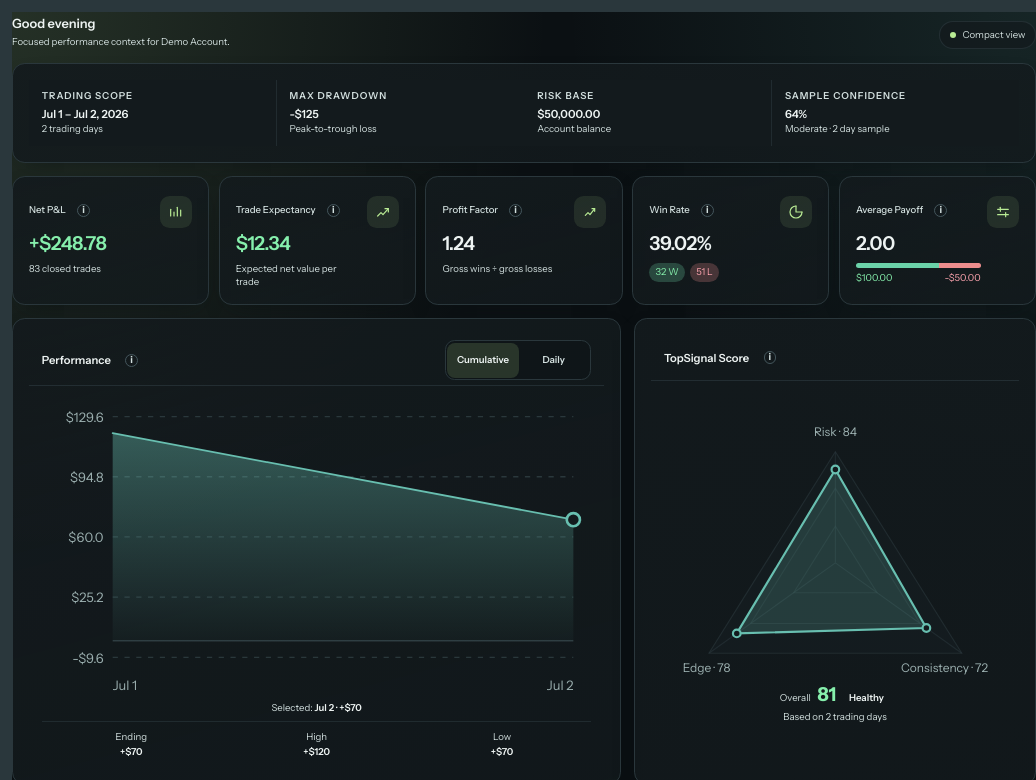
it: CompactDashboardView › describes contextual info popovers and returns focus on Escape
Click the button named "Net P&L information" at coordinates (84, 210), box left=66, top=192, right=101, bottom=228
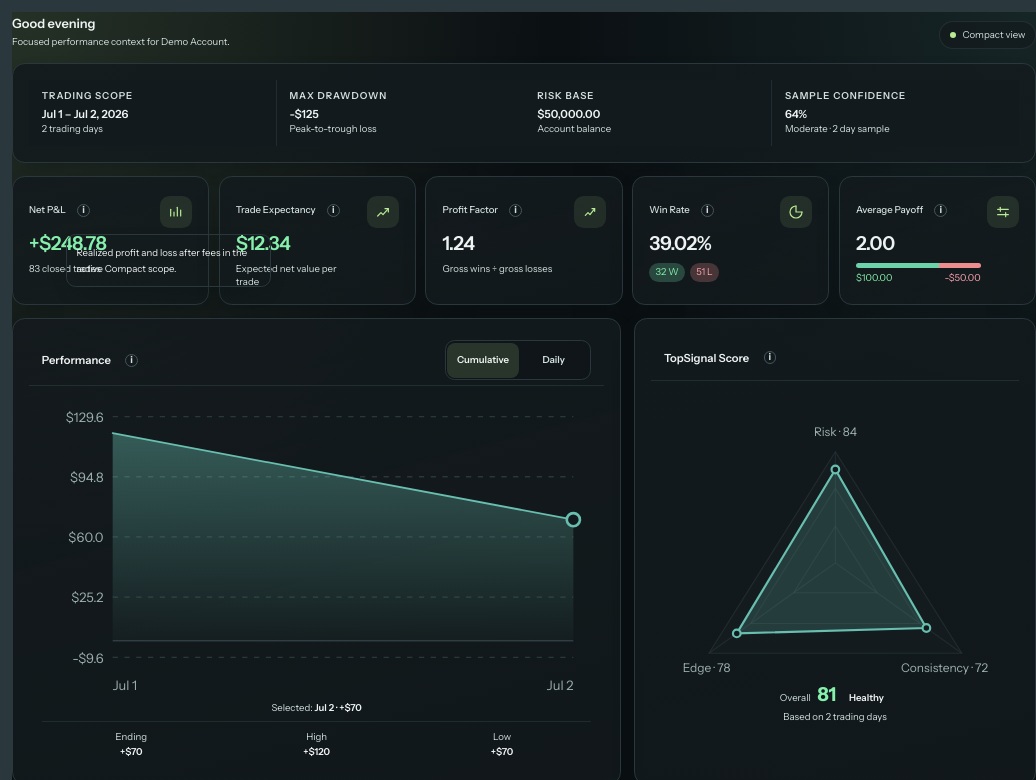
Expected: the tooltip shows "Realized profit and loss after fees", left=76, top=247, right=247, bottom=274
Press Escape
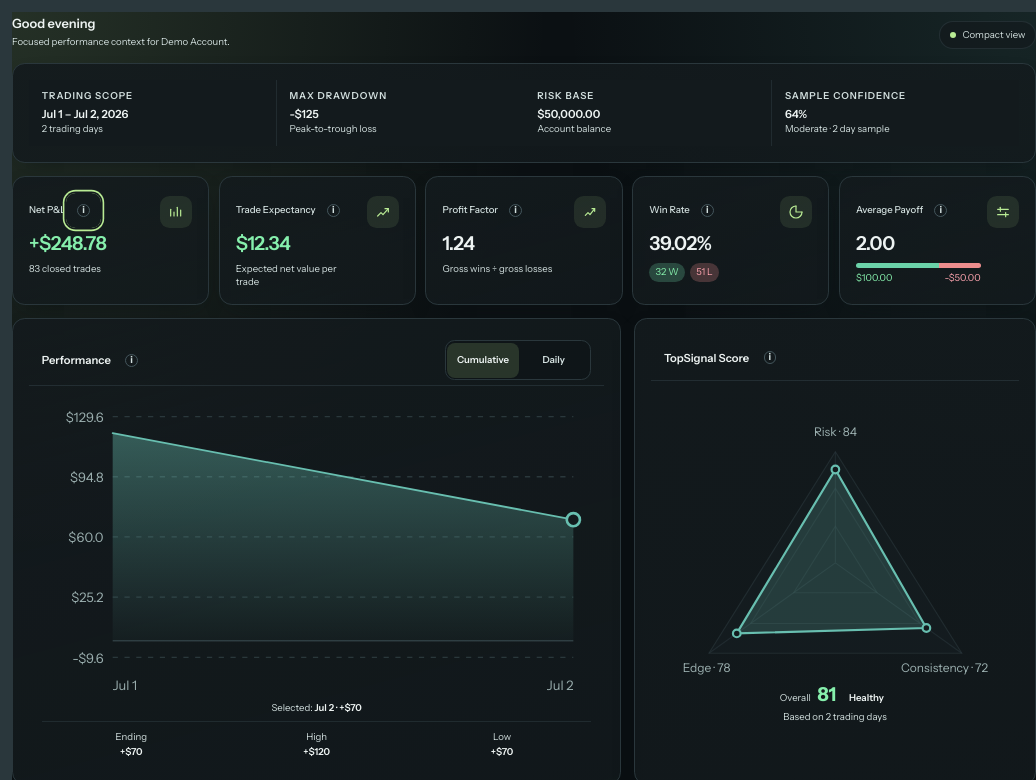
Expected: the tooltip "Realized profit and loss after fees in the active Compact scope." is gone
